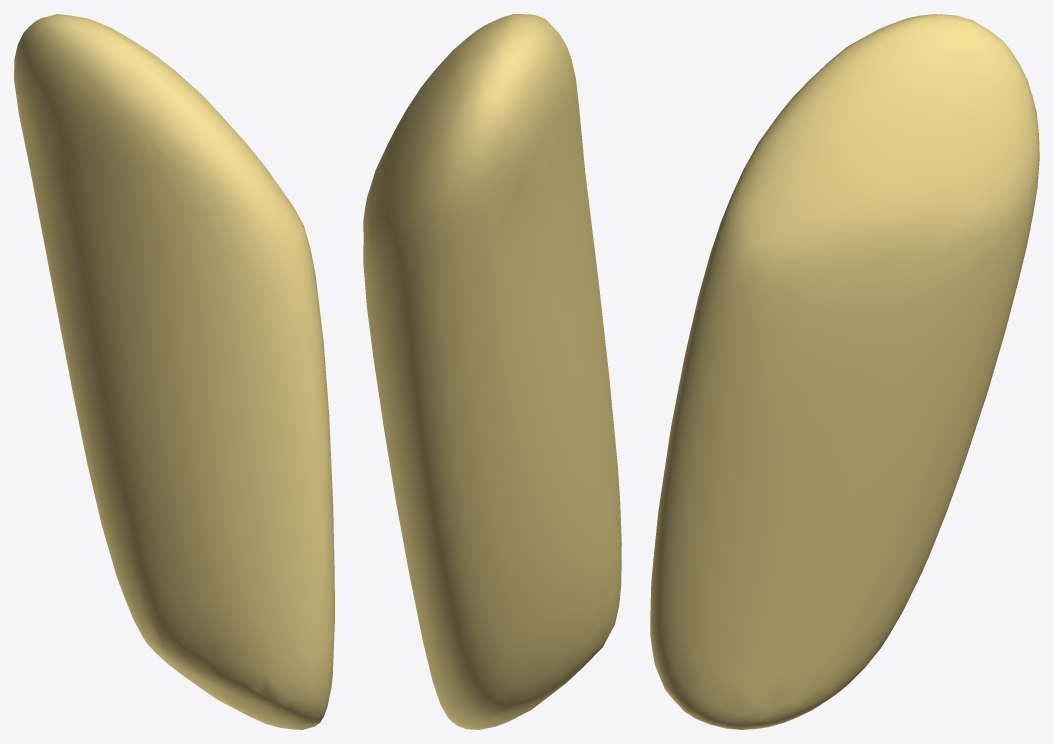
Rendered from fma73325_fj7495m.glb.
3 renders of one model, left to right at view 1: azimuth 30°, elevation 25°; view 2: azimuth 150°, elevation 25°; view 3: azimuth 270°, elevation 25°, orthographic. The views are drawn at different scales.
Visible parts, largest first — view 1: FMA73325_FJ7495M; view 2: FMA73325_FJ7495M; view 3: FMA73325_FJ7495M.
Part boxes in pixels (x1,y1,x2,y2): FMA73325_FJ7495M: [14, 14, 334, 729]; FMA73325_FJ7495M: [363, 14, 621, 729]; FMA73325_FJ7495M: [650, 14, 1039, 729].
Size of the model in its own units: 0.00233 by 0.00804 by 0.00433.
